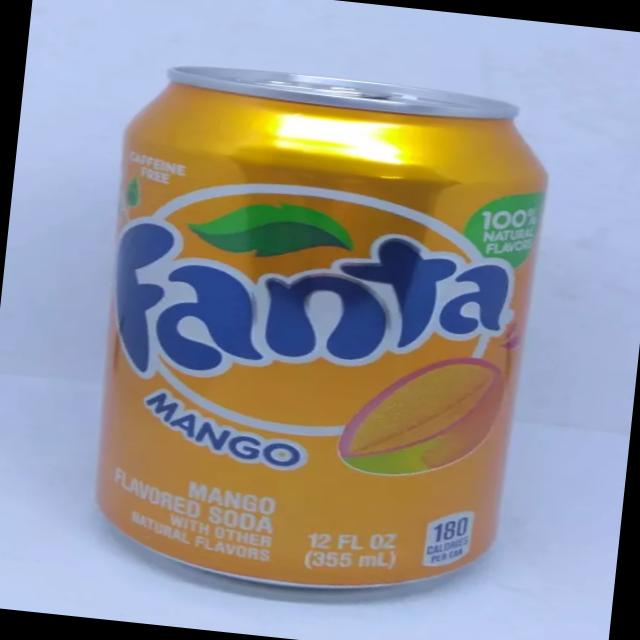fanta: (69, 49, 559, 612)
